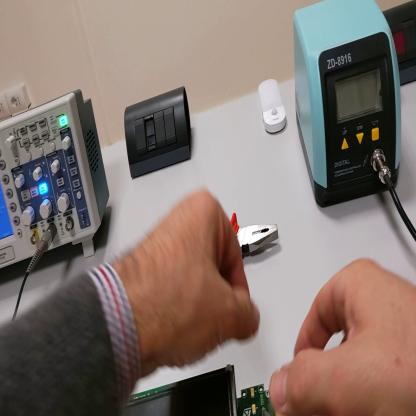hand: (120, 189, 262, 379), (273, 257, 416, 416)
oscilloscope: (2, 83, 107, 271)
oscilloscope probe tip: (123, 381, 274, 415), (264, 401, 271, 416)
pliers: (231, 216, 280, 258)
socket: (383, 2, 416, 91)
welder station: (291, 2, 405, 208)
